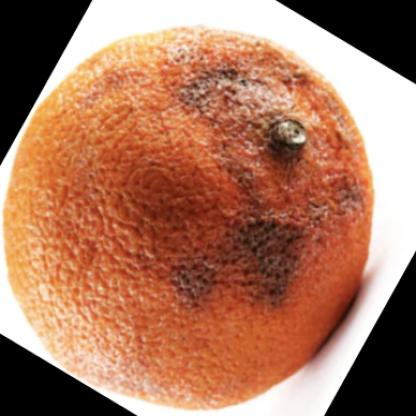rotten: (3, 25, 374, 401)
